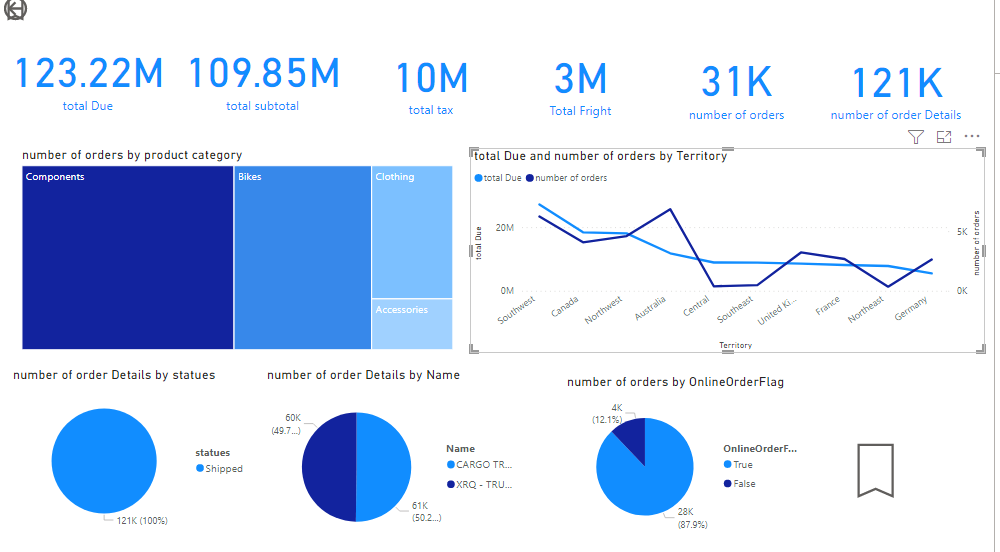

The page's visual inventory and layout, read from the dashboard file:
{"tool":"powerbi","page":{"name":"home","canvas":[1280,720],"ordinal":0},"visuals":[{"type":"card","fields":{"Values":["Measure Table.total Due"]},"box":[0,44,226.4,124.2],"z":0},{"type":"card","fields":{"Values":["Measure Table.total subtotal"]},"box":[226.4,44,223.3,124.2],"z":1000},{"type":"card","fields":{"Values":["Measure Table.total tax"]},"box":[459.2,55,190.3,113.2],"z":2000},{"type":"card","fields":{"Values":["Measure Table.Total Fright"]},"box":[652.6,55,188.7,114.8],"z":3000},{"type":"card","fields":{"Values":["Measure Table.number of order Details"]},"box":[1056.7,61.3,193.4,113.2],"z":4000},{"type":"card","fields":{"Values":["Measure Table.number of orders"]},"box":[841.3,66,215.4,103.8],"z":5000},{"type":"pieChart","fields":{"Y":["Measure Table.number of order Details"],"Category":["Dim_status.statues"]},"box":[11,481.2,316.1,223.3],"z":6000},{"type":"treemap","fields":{"Values":["Measure Table.number of orders"],"Group":["Dim_products.product category Hierarchy.product category","Dim_products.product category Hierarchy.product sub category","Dim_products.product category Hierarchy.product name"]},"box":[23.5,198.5,565.2,265.8],"z":7000},{"type":"pieChart","fields":{"Category":["Dim_ShipMethods.Name"],"Y":["Measure Table.number of order Details"]},"box":[338.1,481.2,339.7,239],"z":8000},{"type":"lineChart","fields":{"Category":["Dim_Territories.Name"],"Y":["Measure Table.total Due"],"Y2":["Measure Table.number of orders"]},"box":[575.5,190.3,674.6,290.9],"z":9000},{"type":"pieChart","fields":{"Category":["Fact_OrderDetails.OnlineOrderFlag"],"Y":["Measure Table.number of orders"]},"box":[724.9,490.6,311.4,220.1],"z":10000},{"type":"actionButton","box":[0,0,100,40],"z":11000},{"type":"actionButton","box":[0,0,100,40],"z":12000},{"type":"actionButton","box":[1084.9,571.9,153.1,87.5],"z":13000}]}

Visuals, with their boxes on the page's 1280x720 design canvas (x1, y1, x2, y2). These are canvas units, not pixel positions in the 1000x552 screenshot, which may show the page scaled, cropped or inside an application window:
card - Measure Table.total Due: <box>0,44,226,168</box>
card - Measure Table.total subtotal: <box>226,44,450,168</box>
card - Measure Table.total tax: <box>459,55,650,168</box>
card - Measure Table.Total Fright: <box>653,55,841,170</box>
card - Measure Table.number of order Details: <box>1057,61,1250,174</box>
card - Measure Table.number of orders: <box>841,66,1057,170</box>
pieChart - Measure Table.number of order Details x Dim_status.statues: <box>11,481,327,704</box>
treemap - Measure Table.number of orders x Dim_products.product category Hierarchy.product category: <box>24,198,589,464</box>
pieChart - Dim_ShipMethods.Name x Measure Table.number of order Details: <box>338,481,678,720</box>
lineChart - Dim_Territories.Name x Measure Table.total Due: <box>576,190,1250,481</box>
pieChart - Fact_OrderDetails.OnlineOrderFlag x Measure Table.number of orders: <box>725,491,1036,711</box>
actionButton: <box>0,0,100,40</box>
actionButton: <box>0,0,100,40</box>
actionButton: <box>1085,572,1238,659</box>
